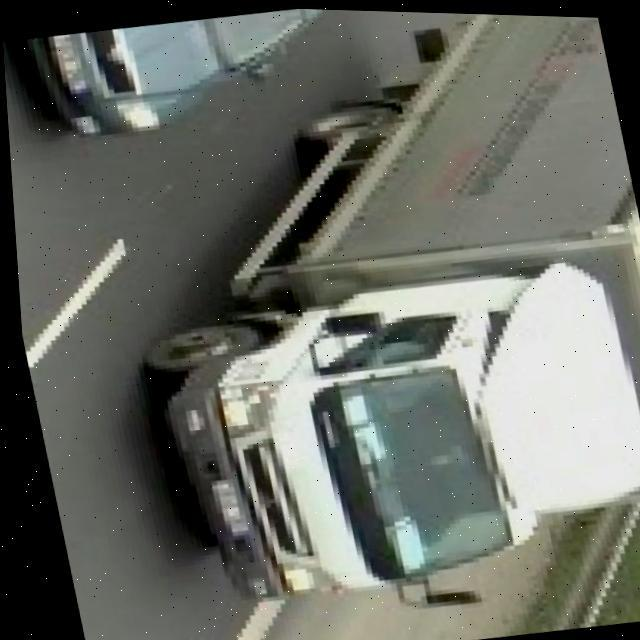truck: (77, 2, 640, 639)
